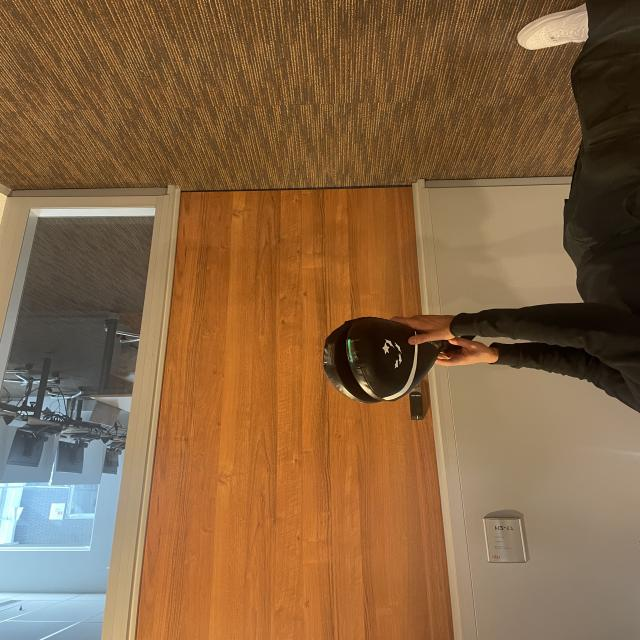paddle: (322, 319, 430, 405)
trigger: (344, 337, 355, 366)
